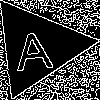A: (12, 22, 55, 72)
